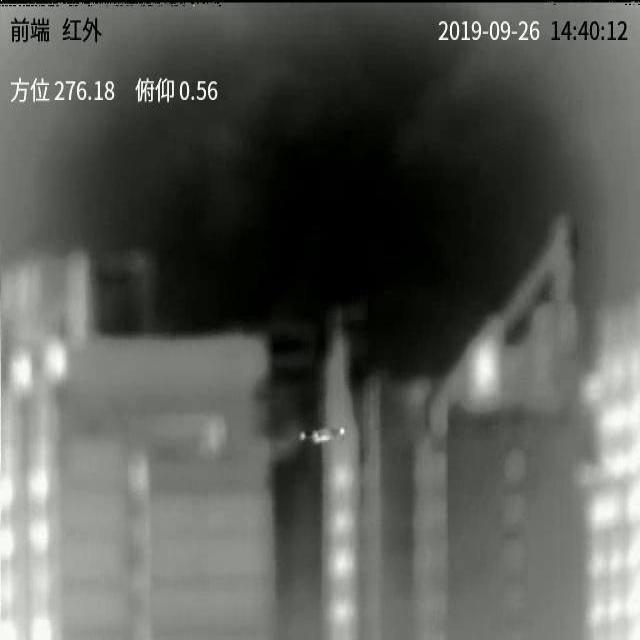drone: (299, 427, 345, 444)
